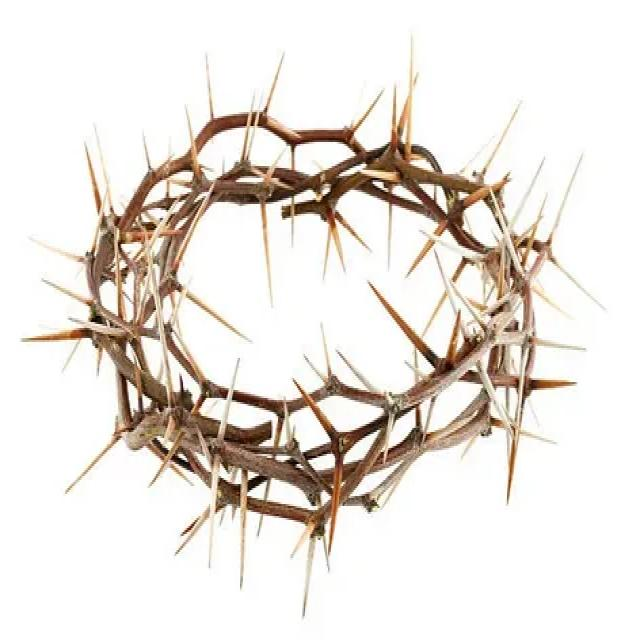crown: (62, 94, 568, 546)
